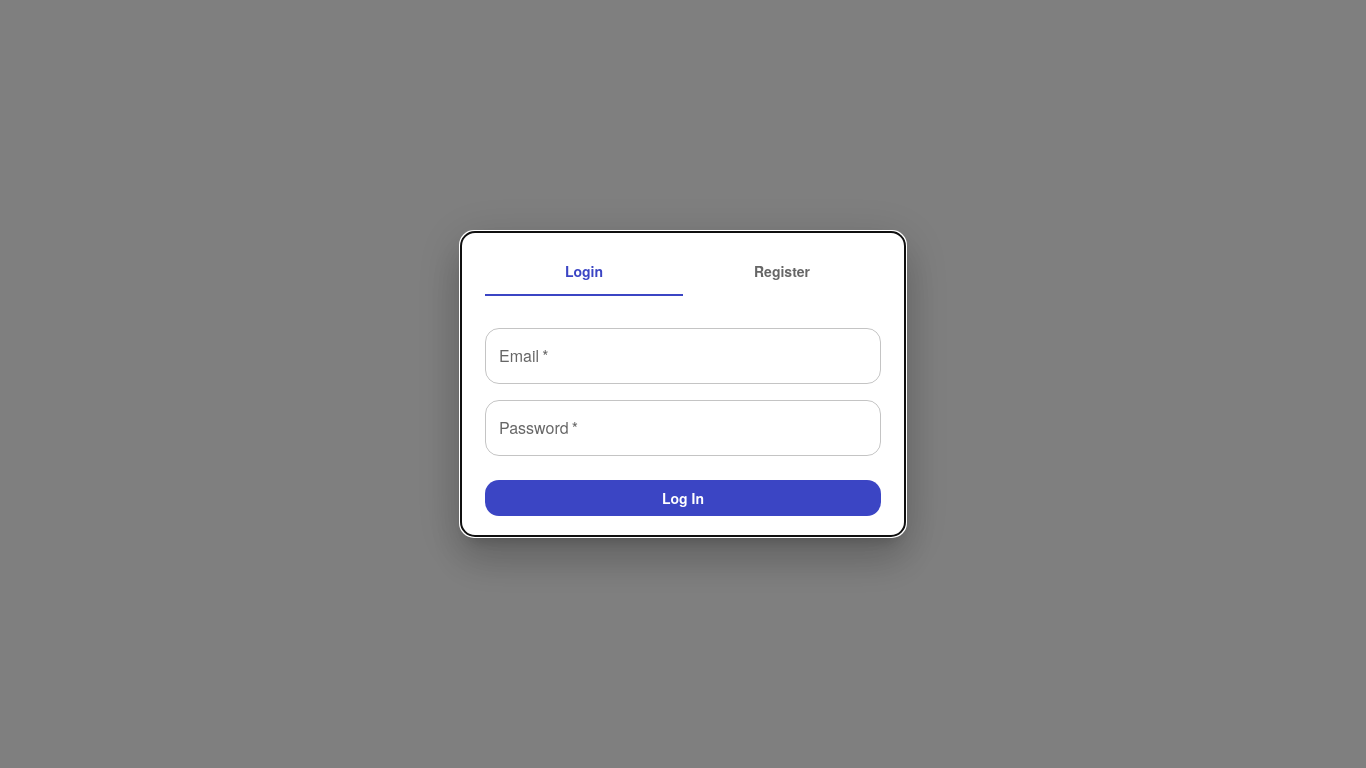
Scenario: LoginRegisterModal › shows the error when login fails
This screenshot has width=1366, height=768.
Type "a@b.com" into the field labelled "Email *".
click(683, 356); type("a@b.com")  # box [485,328,881,384]
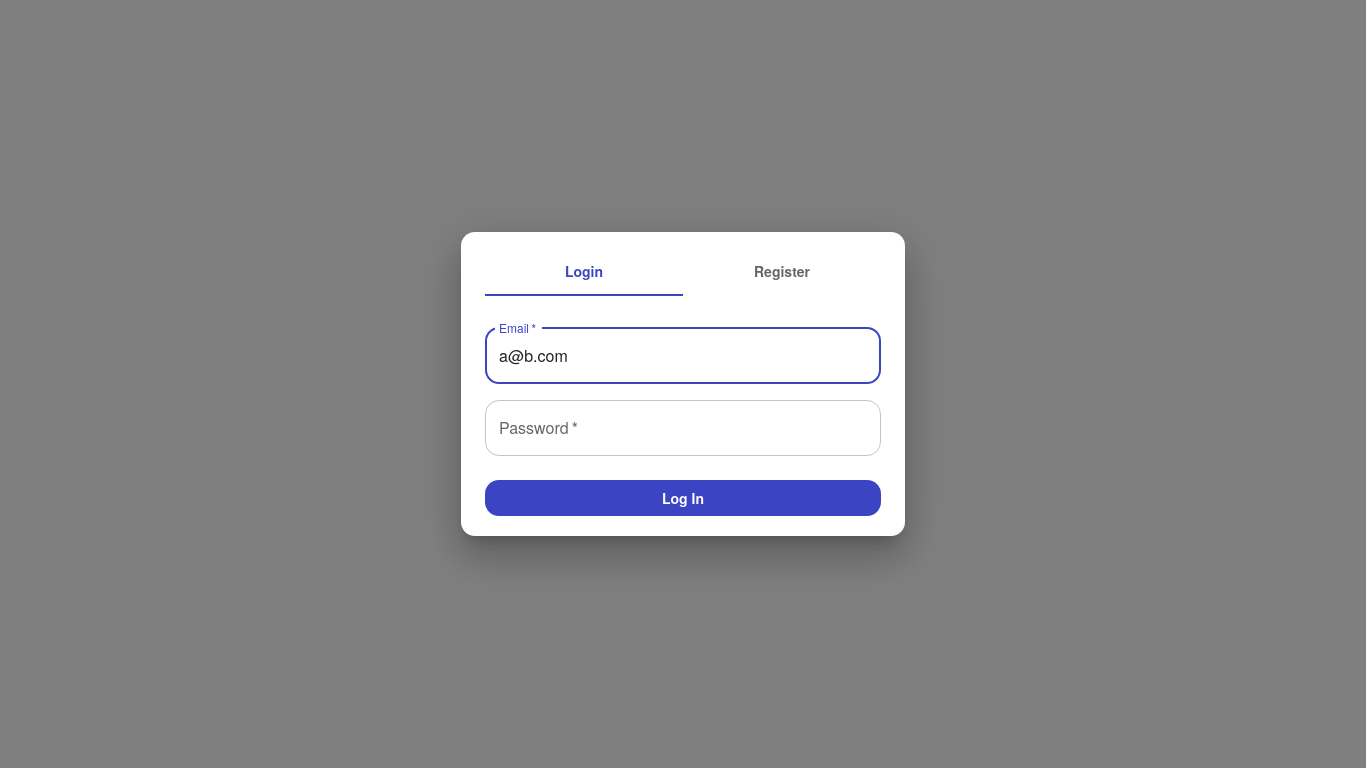
Type "wrong" into the password field labelled "Password *".
click(683, 428); type("wrong")  # box [485,400,881,456]
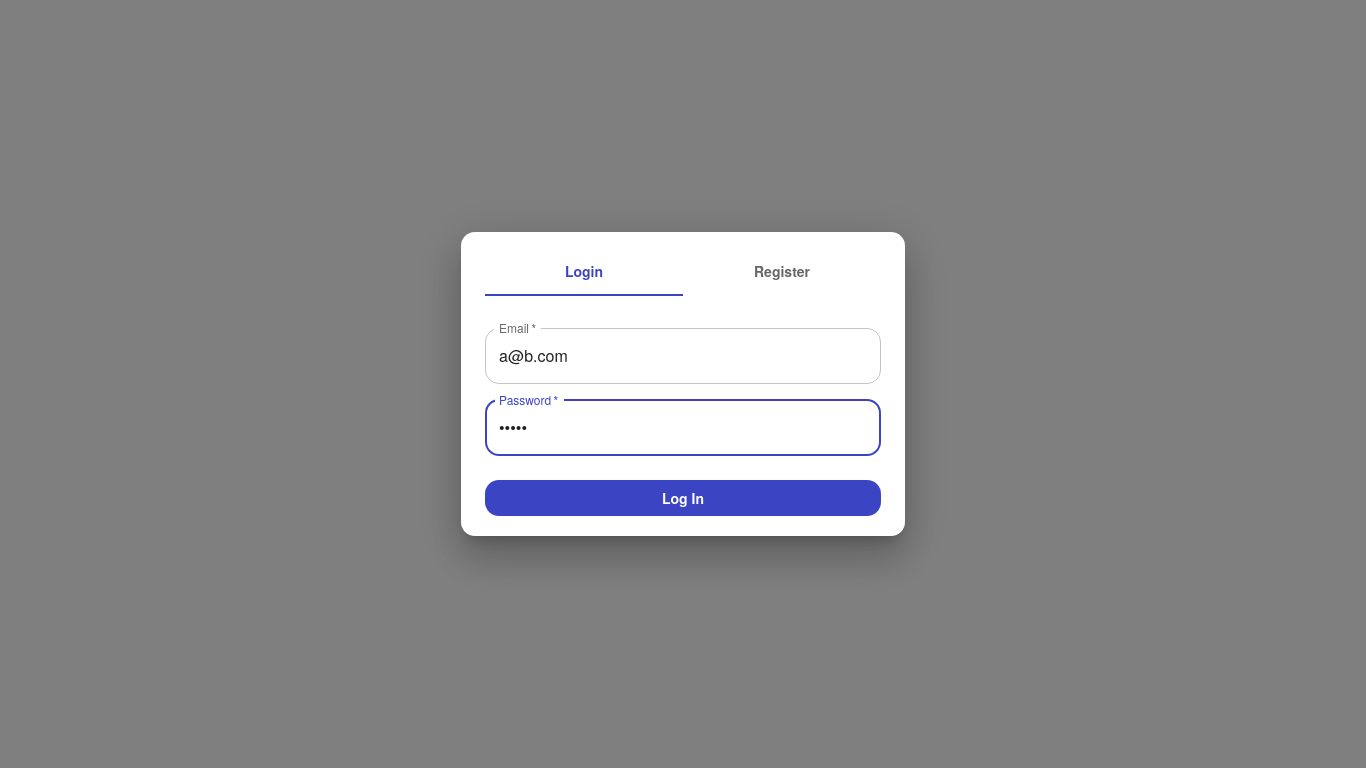
Click the button "Log In".
click(683, 498)  # box [485,480,881,516]
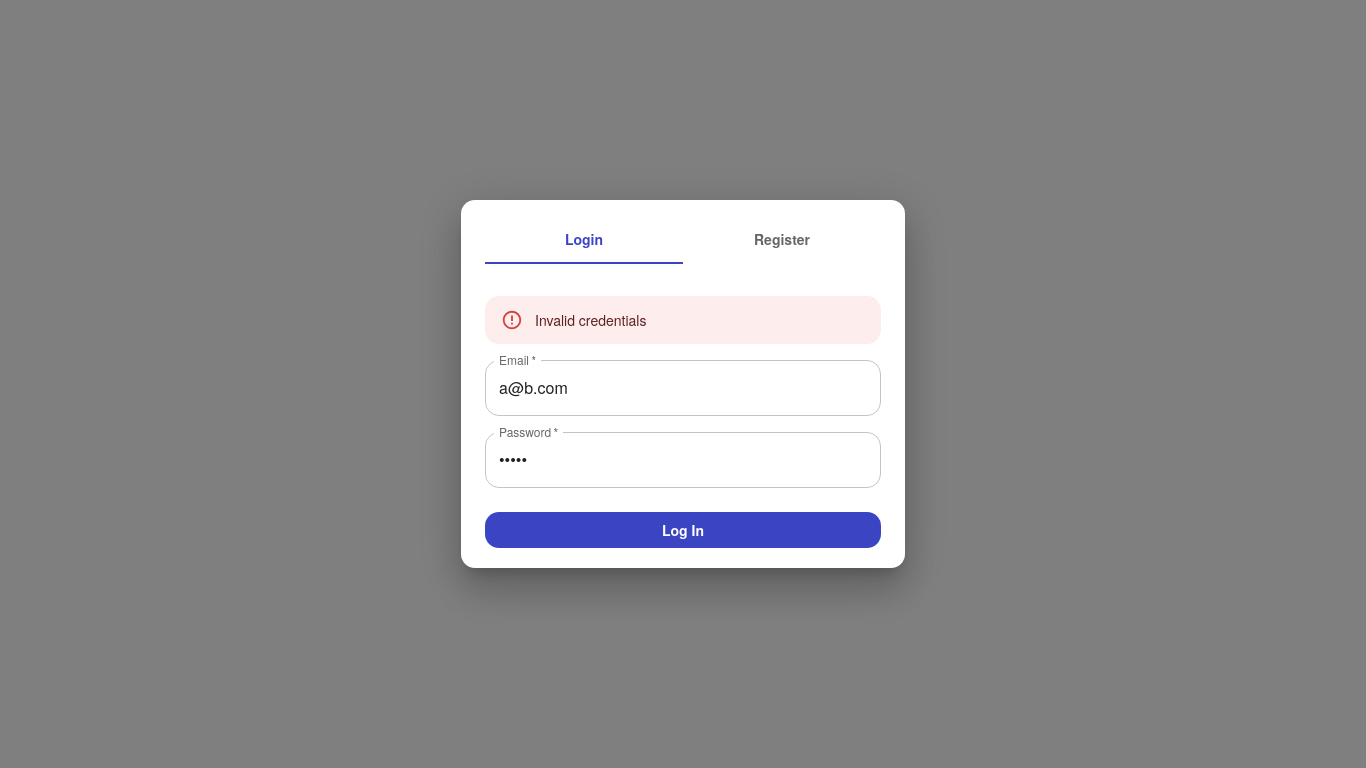
Result: the text "Invalid credentials" is shown at [535,310,646,330]
